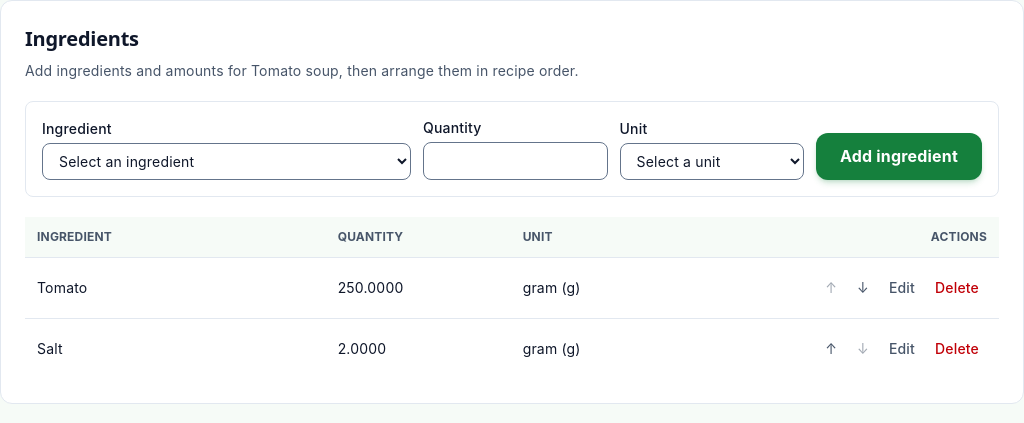
Scenario: recipe details and ingredient lines › edits a line ingredient, quantity, and unit
Click the button "Edit" in the row of "250.0000": (902, 288) [881,270,923,306]
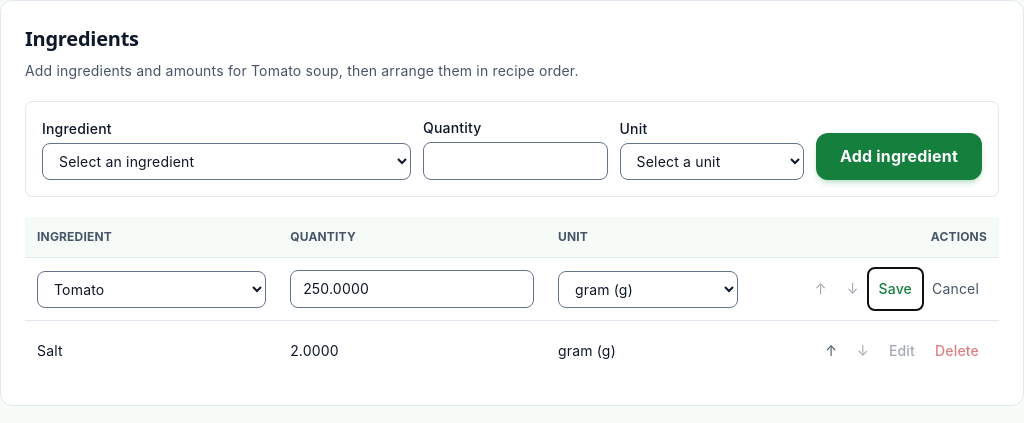
Select "Salt" in the 1st dropdown named "Ingredient": (152, 289) [37,270,266,308]
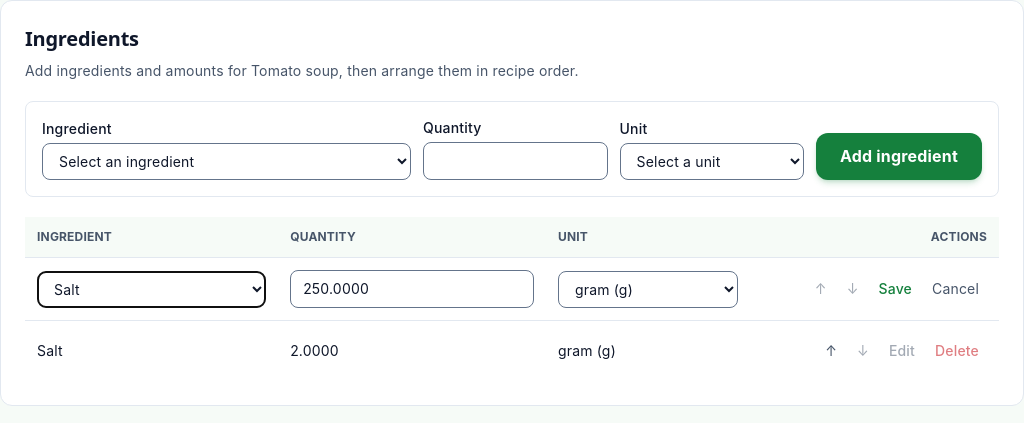
Replace the text in the number field named "Quantity" with "300": (412, 289) [290,270,534,308]
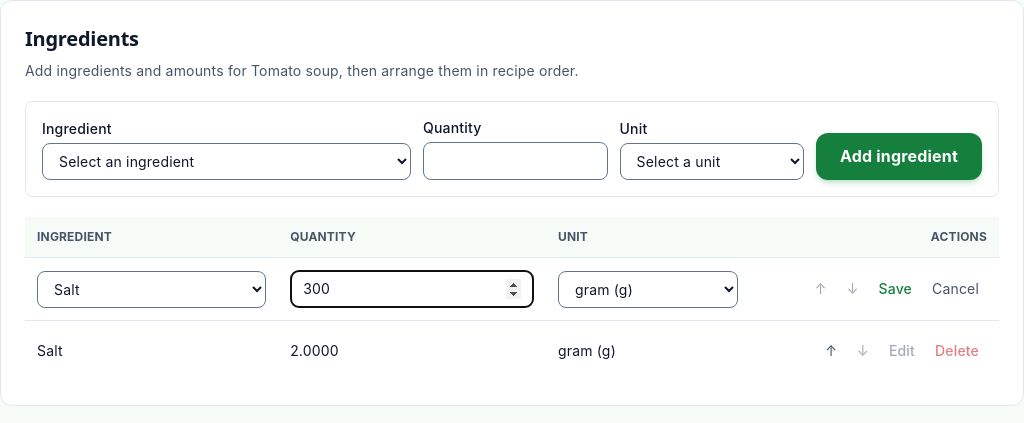
Select "cup (cup)" in the 2nd dropdown named "Unit": (648, 289) [558,270,738,308]
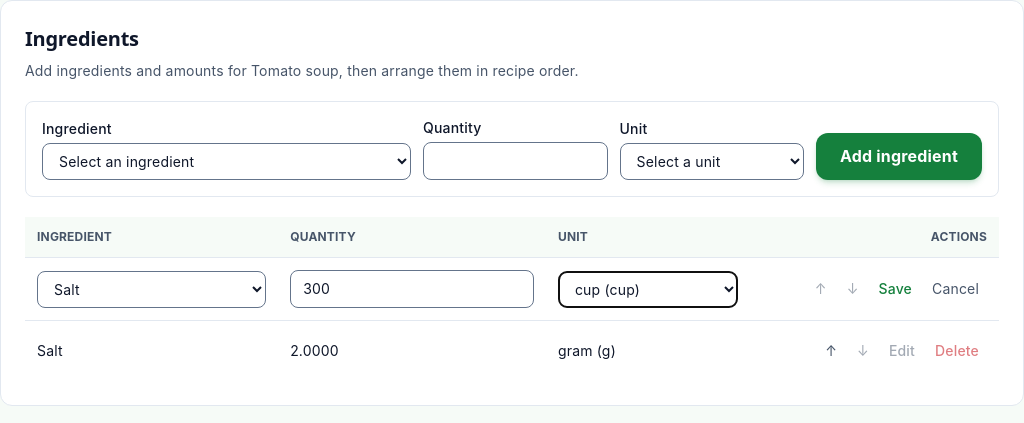
Click the button "Save": (895, 289) [870,271,920,307]
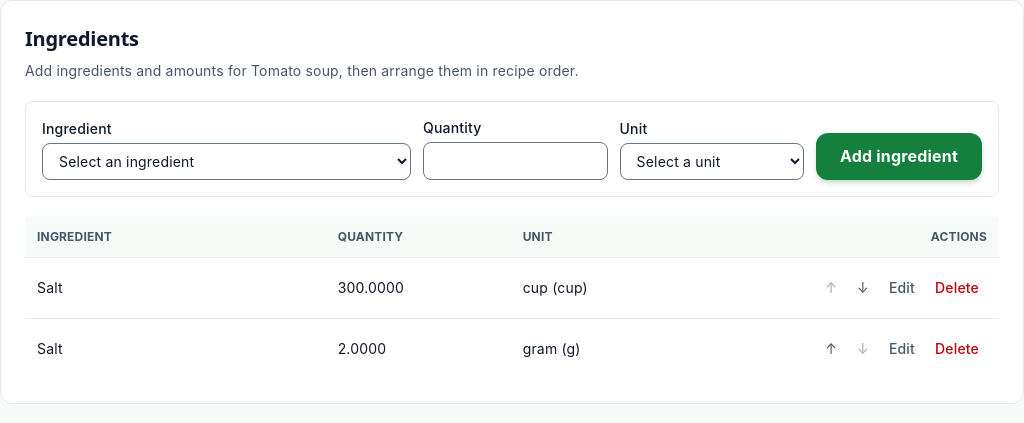
Expected: the row "Salt 300.0000 cup (cup) ↑ ↓ Edit Delete" is shown, [25,258,999,318]
